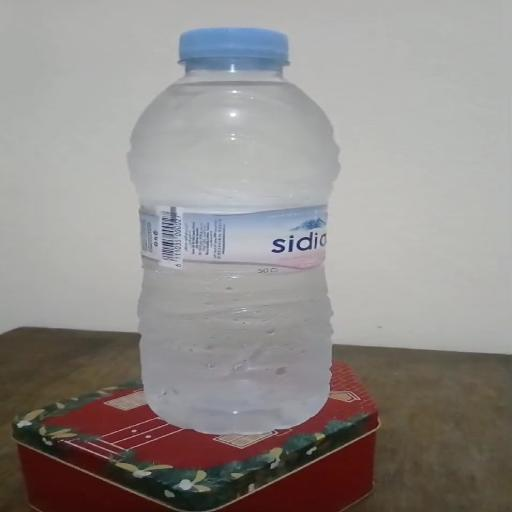bouteille conformite: (127, 28, 338, 434)
